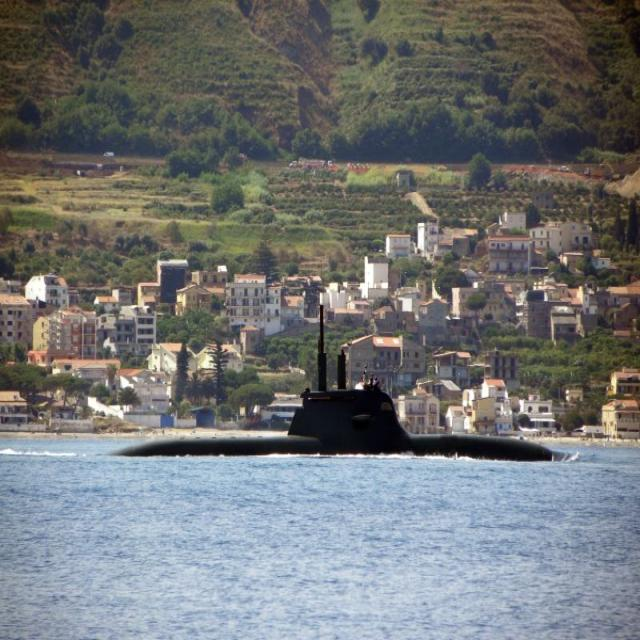submarine: (77, 296, 571, 458)
